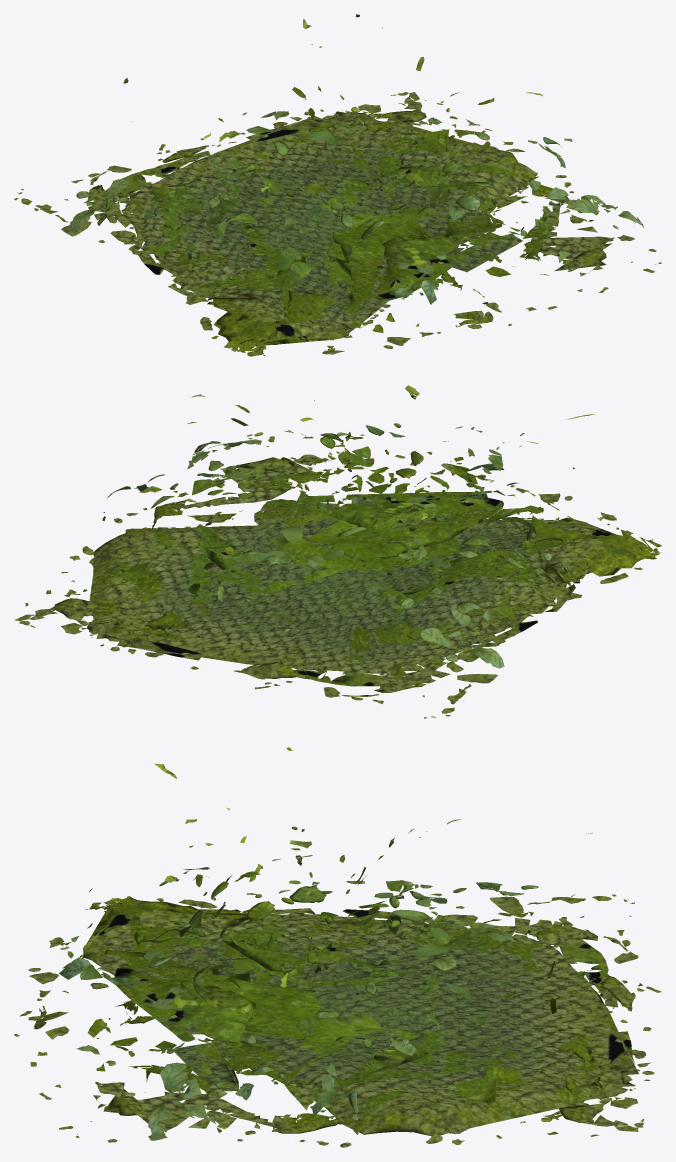
File: obj_007_rtp.glb
3 renders of one model, top to bottom at view 1: azimuth 30°, elevation 25°; view 2: azimuth 150°, elevation 25°; view 3: azimuth 270°, elevation 25°, orthographic. The views are drawn at different scales.
Visible parts, largest first — view 1: tripo_node_5abfd4e1-9df4-4a9a-a6ae-73646fd51ef3; view 2: tripo_node_5abfd4e1-9df4-4a9a-a6ae-73646fd51ef3; view 3: tripo_node_5abfd4e1-9df4-4a9a-a6ae-73646fd51ef3.
Boxes of the visible parts, bbox=[...] form: tripo_node_5abfd4e1-9df4-4a9a-a6ae-73646fd51ef3: bbox=[14, 14, 661, 356]; tripo_node_5abfd4e1-9df4-4a9a-a6ae-73646fd51ef3: bbox=[14, 385, 661, 718]; tripo_node_5abfd4e1-9df4-4a9a-a6ae-73646fd51ef3: bbox=[14, 747, 661, 1147].
Size of the model in its own units: 0.8864 by 0.3381 by 0.9543.
Materials: 1 (1 with a texture image).
